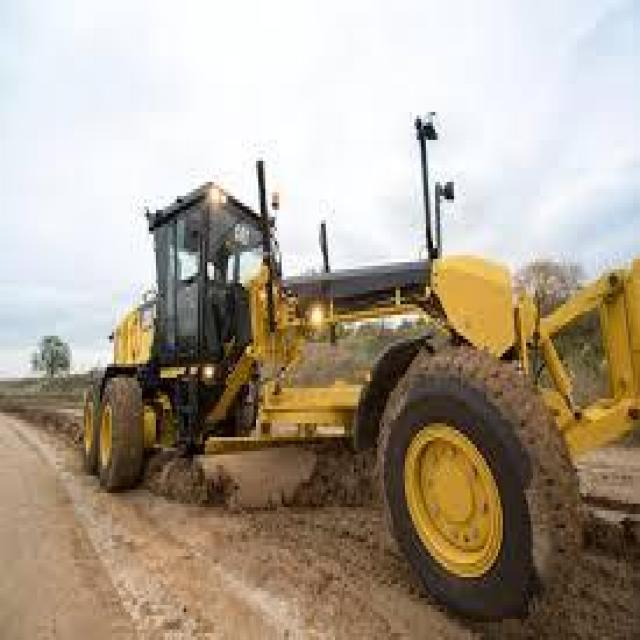Grader: (75, 157, 638, 619)
